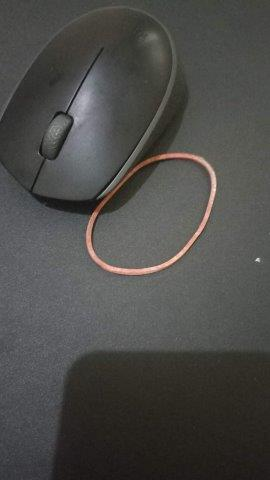karet: (87, 153, 217, 275)
